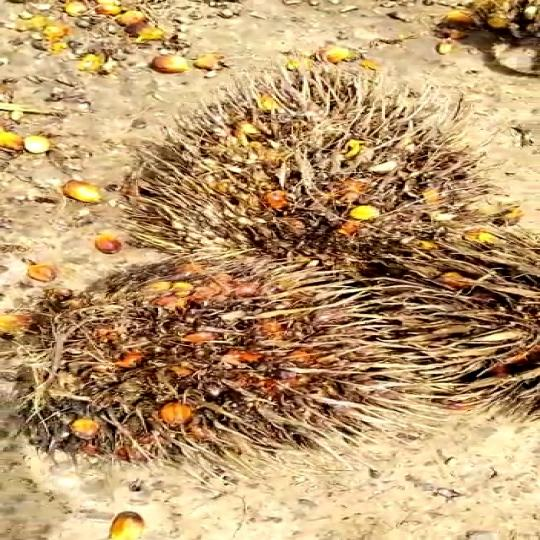terlalu masak: (0, 252, 386, 456), (120, 85, 471, 261)
